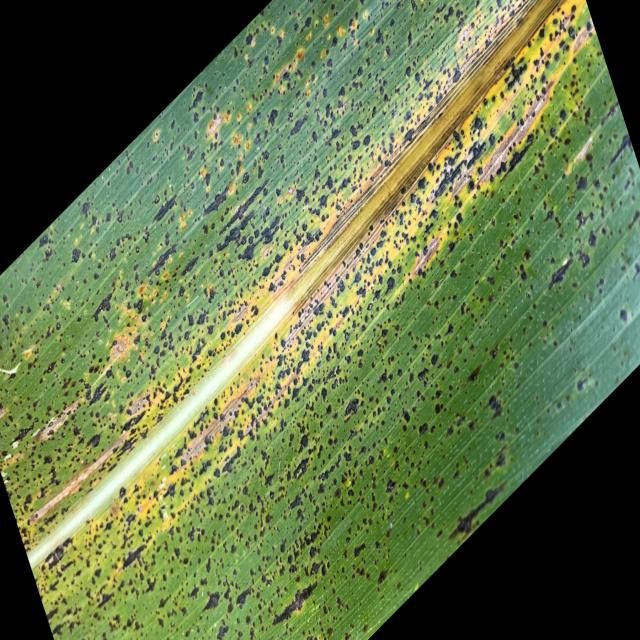Tar_Spot: (2, 0, 637, 638)
